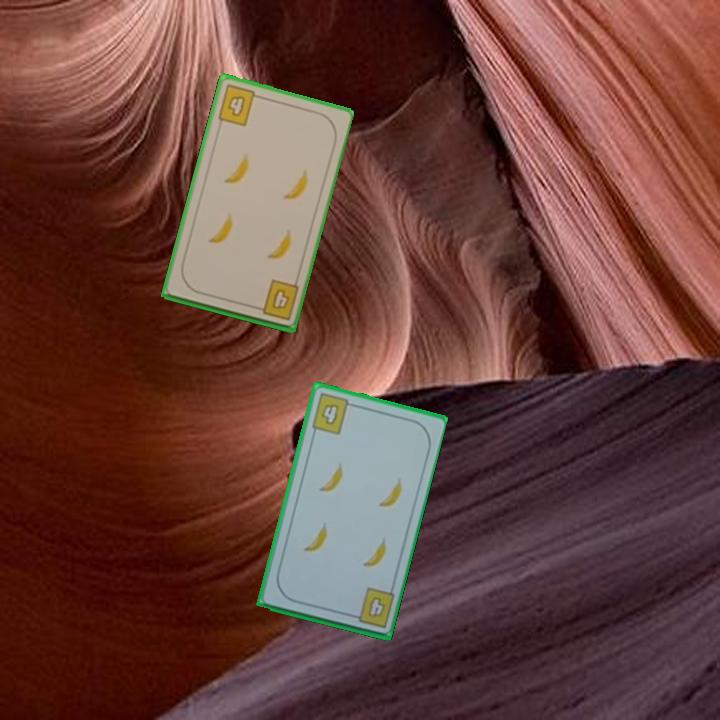4b: (250, 276, 302, 323), (214, 81, 264, 129), (346, 584, 397, 631), (308, 390, 357, 437)
